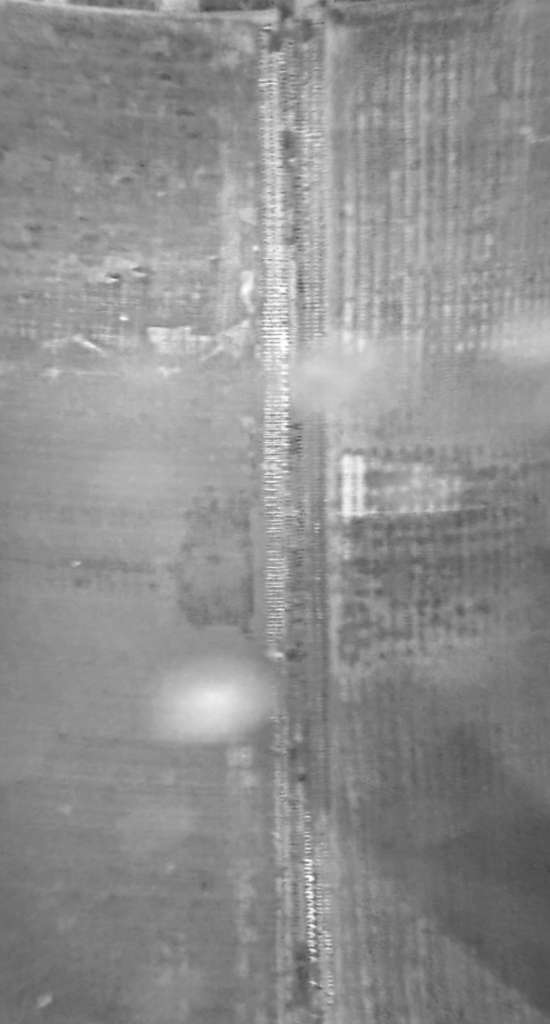splice: (247, 3, 347, 1024)
